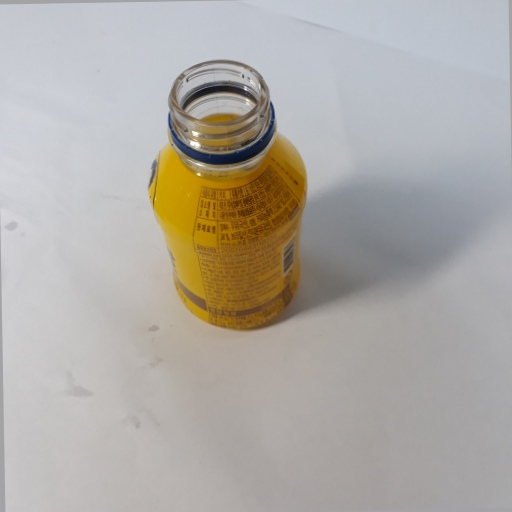Plastic_0: (146, 59, 312, 340)
